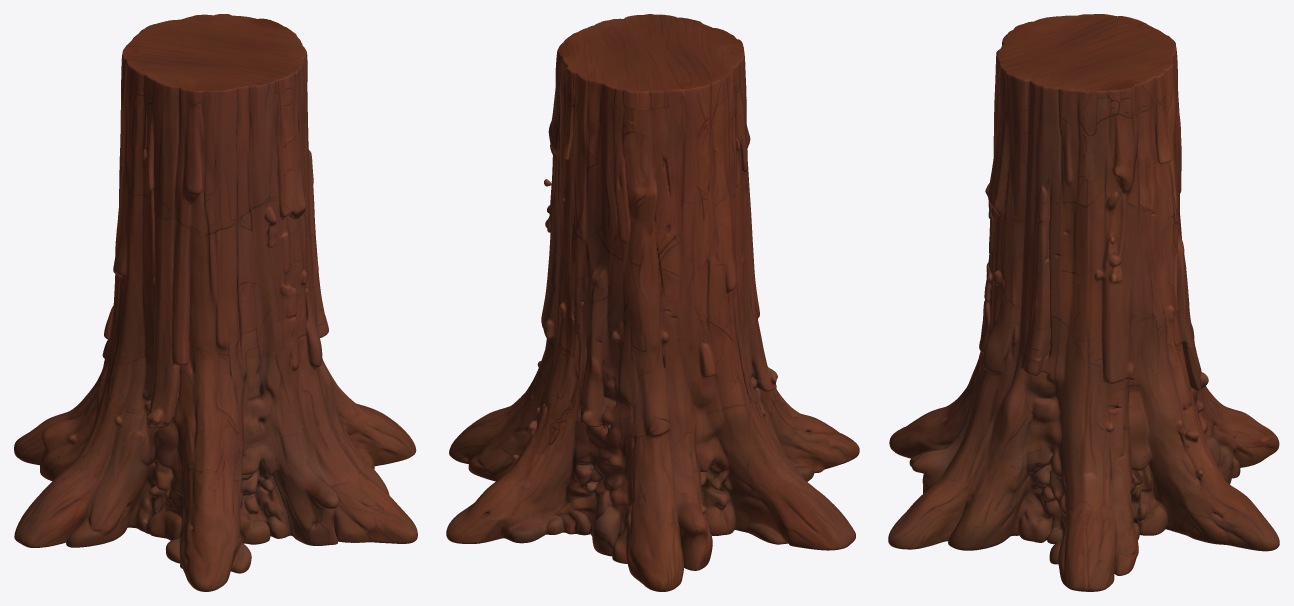
File: redwood_trunk_hero_a.glb
3 renders of one model, left to right at view 1: azimuth 30°, elevation 25°; view 2: azimuth 150°, elevation 25°; view 3: azimuth 270°, elevation 25°, orthographic.
Visible parts, largest first — view 1: tripo_node_3c59f461-a2ed-4ecb-b706-b68a5638bcd0; view 2: tripo_node_3c59f461-a2ed-4ecb-b706-b68a5638bcd0; view 3: tripo_node_3c59f461-a2ed-4ecb-b706-b68a5638bcd0.
Boxes of the visible parts, x1,y1,x2,y2 form: tripo_node_3c59f461-a2ed-4ecb-b706-b68a5638bcd0: (14,14,417,591); tripo_node_3c59f461-a2ed-4ecb-b706-b68a5638bcd0: (446,14,859,591); tripo_node_3c59f461-a2ed-4ecb-b706-b68a5638bcd0: (888,14,1279,591).
Size of the model in its own units: 0.9328 by 1 by 0.7974.
1 material, 1 textured.
